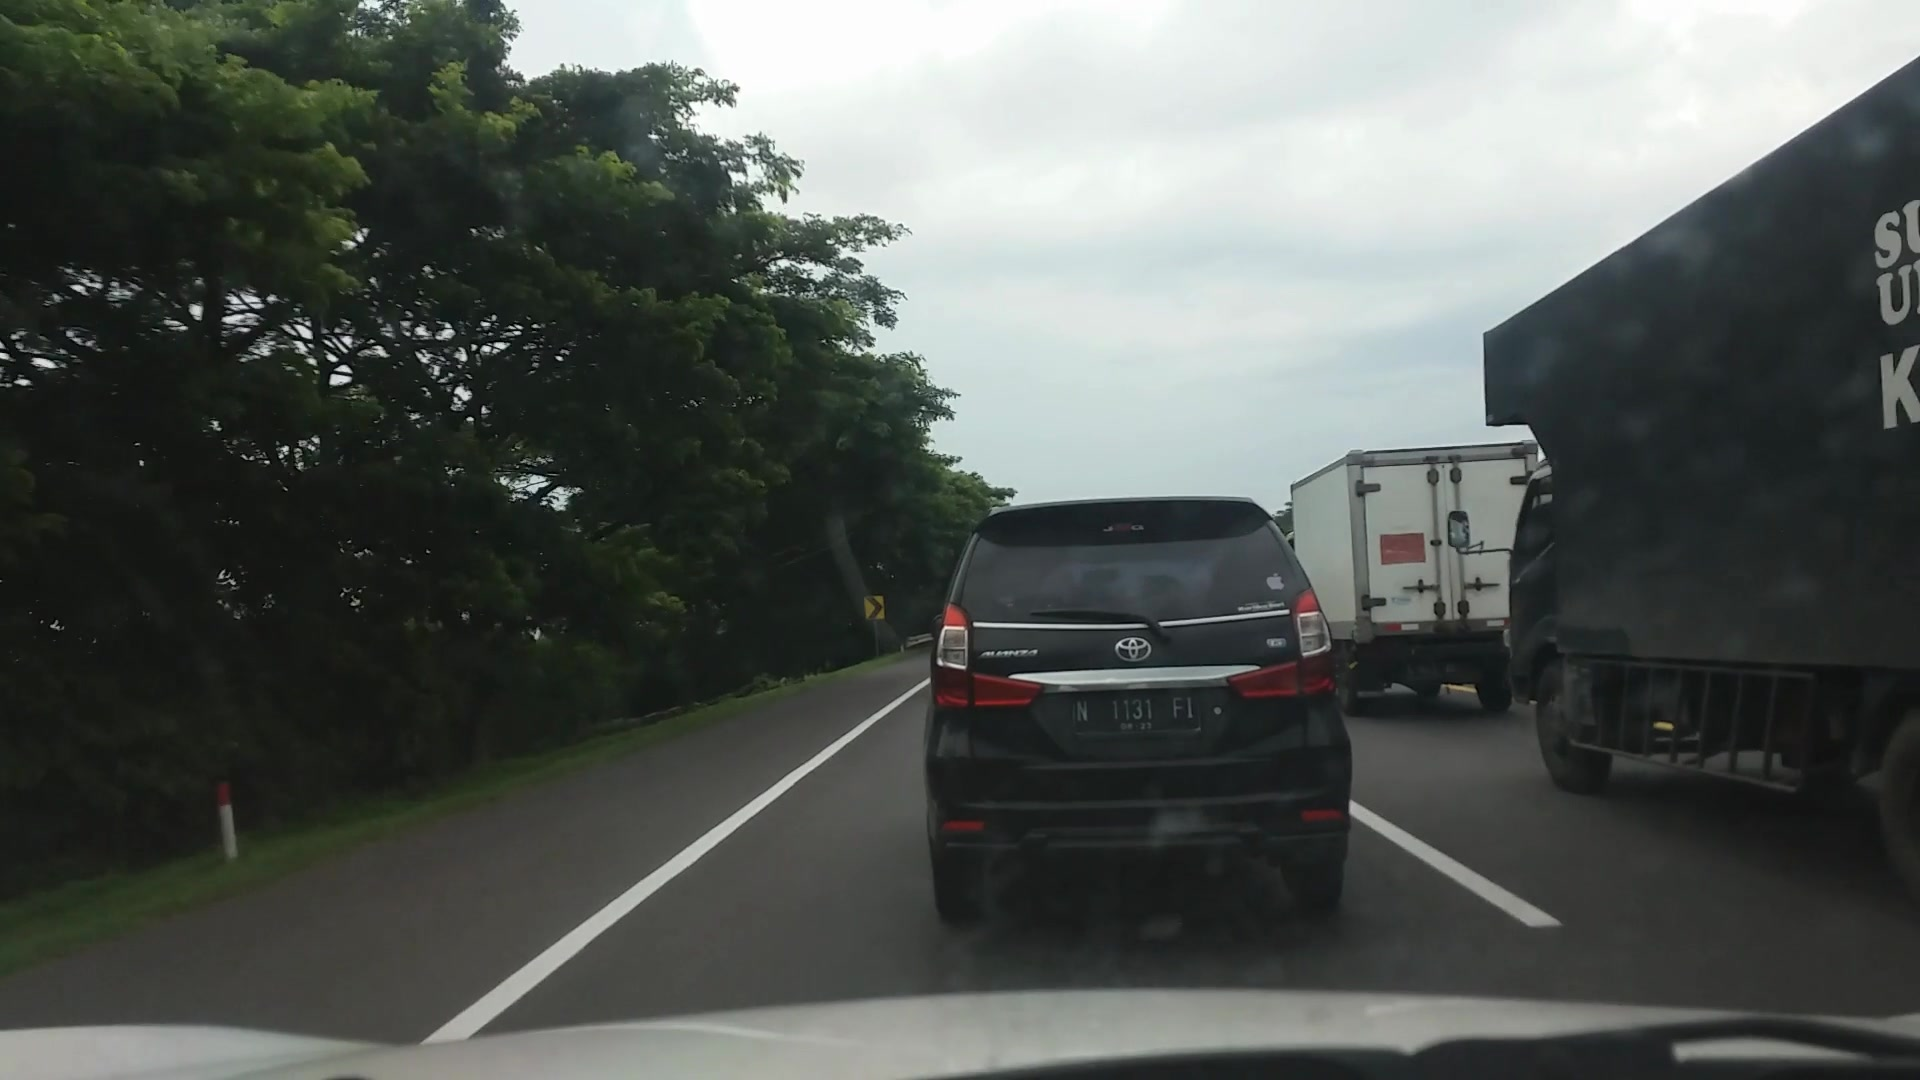plate_positive: (1072, 690, 1199, 733)
